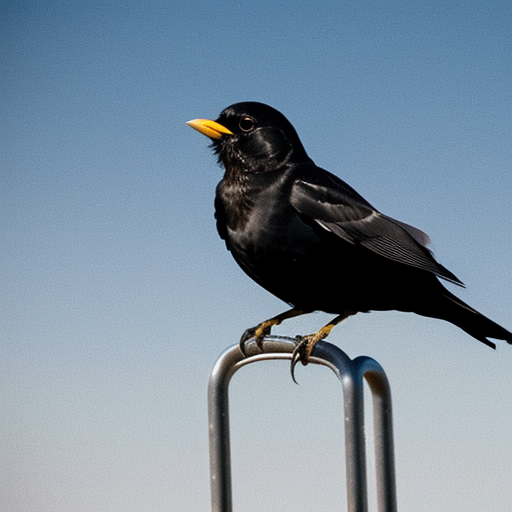bird: (210, 102, 511, 347)
